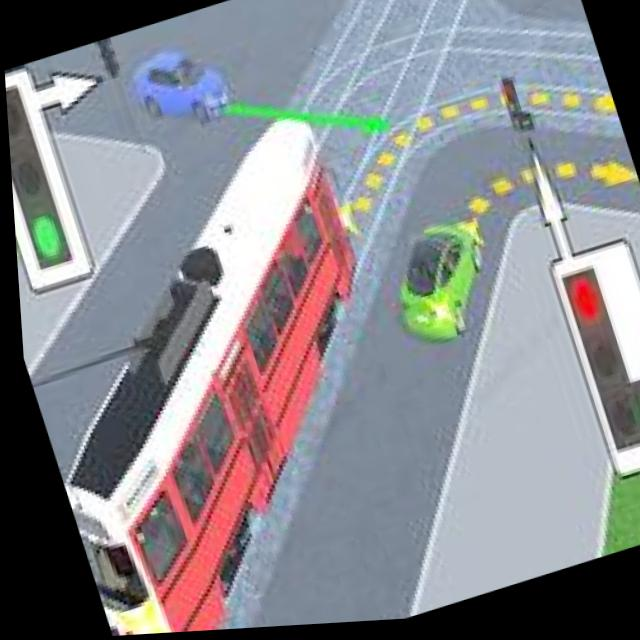green_light: (10, 185, 108, 287)
